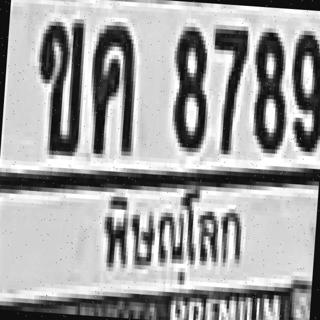A02: (29, 16, 85, 152)
A04: (86, 20, 137, 152)
N07: (205, 24, 246, 151)
N08: (169, 22, 210, 148), (247, 27, 288, 150)
N09: (286, 26, 320, 148)
P46: (88, 180, 252, 299)
